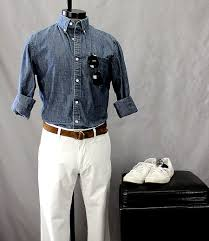F_belt: (37, 118, 114, 142)
